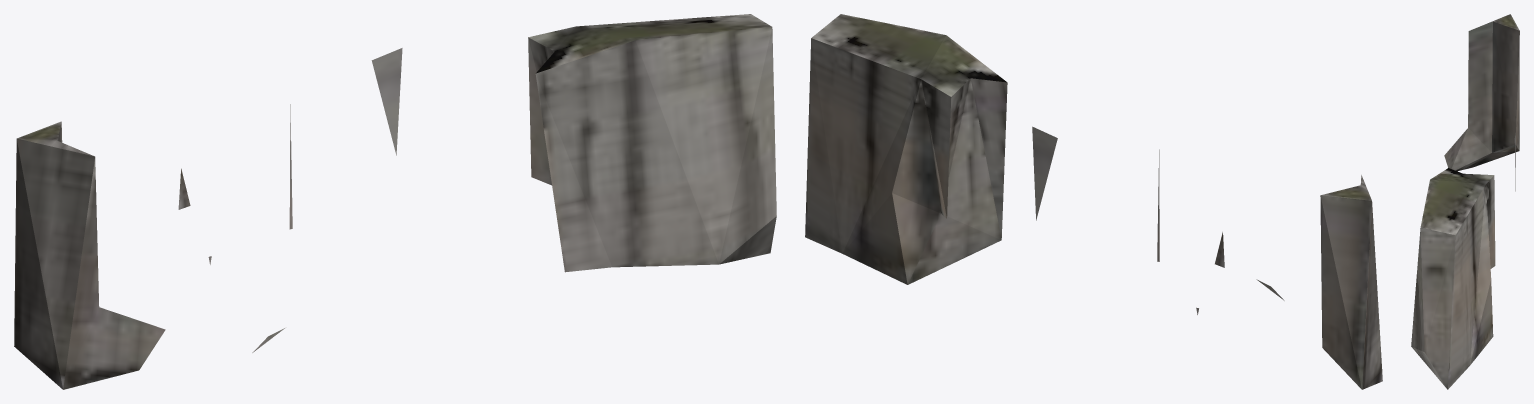
File: limestone_cliff_lod2.glb
3 views of the same model, side by side, from view 1: azimuth 30°, elevation 25°; view 2: azimuth 150°, elevation 25°; view 3: azimuth 270°, elevation 25° (orthographic). The views are drawn at different scales.
Parts seen in each view (by area): view 1: limestone_cliff_lod2; view 2: limestone_cliff_lod2; view 3: limestone_cliff_lod2.
Part boxes in pixels (x1,y1,x2,y2): limestone_cliff_lod2: (14, 14, 776, 389); limestone_cliff_lod2: (805, 14, 1382, 389); limestone_cliff_lod2: (1411, 14, 1519, 389).
Bounding box in the file's own units: 0.9485 × 0.334 × 0.2002.
1 material, 1 textured.
